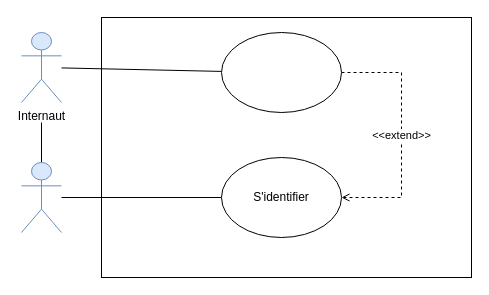
This 489x295 diagram has some shape labels left out. Here are the shapes that lost their labels. From the top down, the centre of each, then its label:
point (281, 72): S'inscrire
point (41, 197): Candidat
